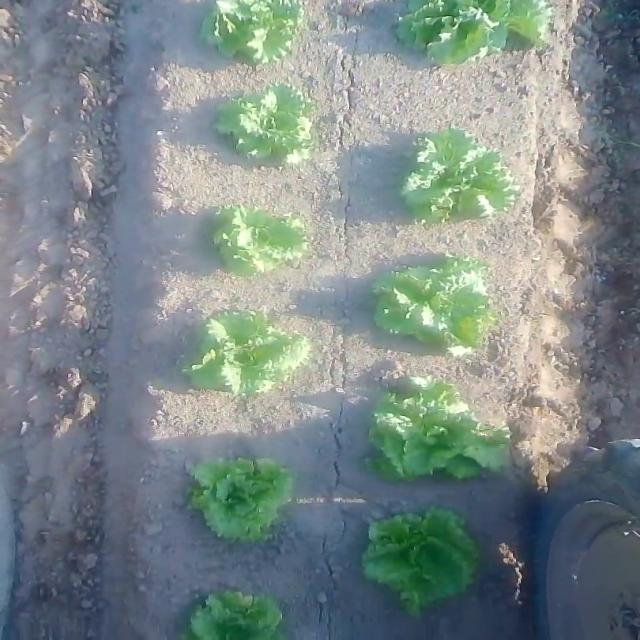Lettuce-Ready-to-Harvest: (360, 510, 487, 618)
